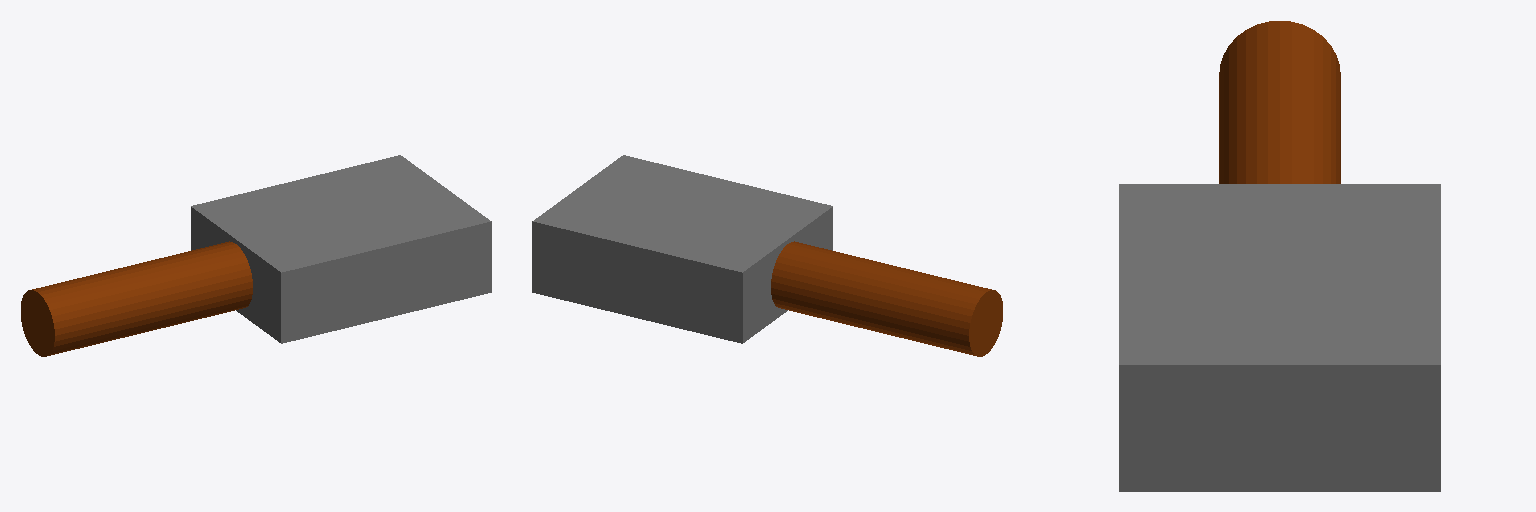
robot.urdf — handle_head:
<?xml version="1.0"?>
<robot name="handle_head">

  <link name="handle_head">
    <!-- Handle -->
    <visual>
              <origin xyz="0 0 0" rpy="0 -1.5707963267948966 0"/>
        <geometry>
          <cylinder length="0.07251181942642804" radius="0.010892706599024526"/>
        </geometry>
        
      <material name="brown">
        <color rgba="0.55 0.27 0.07 1.0"/>
      </material>
    </visual>
    <collision>
              <origin xyz="0 0 0" rpy="0 -1.5707963267948966 0"/>
        <geometry>
          <cylinder length="0.07251181942642804" radius="0.010892706599024526"/>
        </geometry>
        
    </collision>

    <!-- Head -->
    <visual>
              <origin xyz="0.07466618480405436 0 0" rpy="0 0 0"/>
        <geometry>
          <box size="0.07682055018168069 0.05754632548820719 0.024897605515646803"/>
        </geometry>
        
      <material name="gray">
        <color rgba="0.5 0.5 0.5 1.0"/>
      </material>
    </visual>
    <collision>
              <origin xyz="0.07466618480405436 0 0" rpy="0 0 0"/>
        <geometry>
          <box size="0.07682055018168069 0.05754632548820719 0.024897605515646803"/>
        </geometry>
        
    </collision>

    <inertial>
      <origin xyz="0.05509992161080831 0 0" rpy="0 0 0"/>
      <mass value="0.06661782059886703"/>
      <inertia ixx="1.7107222938780095e-05" iyy="0.0001101709599654154" izz="0.00012119805315651237" ixy="0" ixz="0" iyz="0"/>
    </inertial>
  </link>

</robot>

--- Render facts (derived) ---
Views: 3 orthographic renders of the robot side by side, from view 1: azimuth 30°, elevation 25°; view 2: azimuth 150°, elevation 25°; view 3: azimuth 270°, elevation 25°.
Robot: handle_head — 1 links, 0 joints (none); root link handle_head; default pose: all joints at 0.
Visible links, largest first — view 1: handle_head; view 2: handle_head; view 3: handle_head.
Boxes of the visible links, <box> form: handle_head: <box>21,155,491,356</box>; handle_head: <box>532,155,1002,356</box>; handle_head: <box>1119,21,1440,491</box>.
Bounding box of the posed robot: 0.1493 × 0.0575 × 0.0249 m (x, y, z).
Geometry: primitives only (box / cylinder / sphere), no mesh files.
